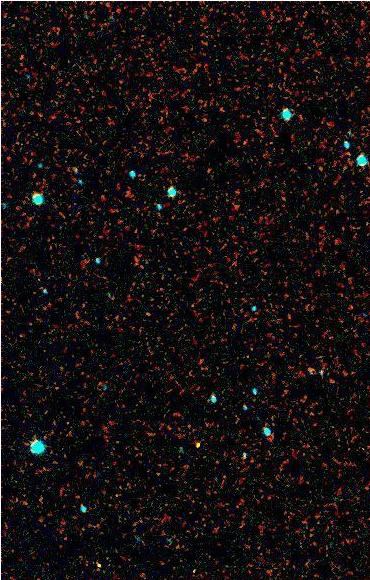star: (82, 552, 112, 580)
